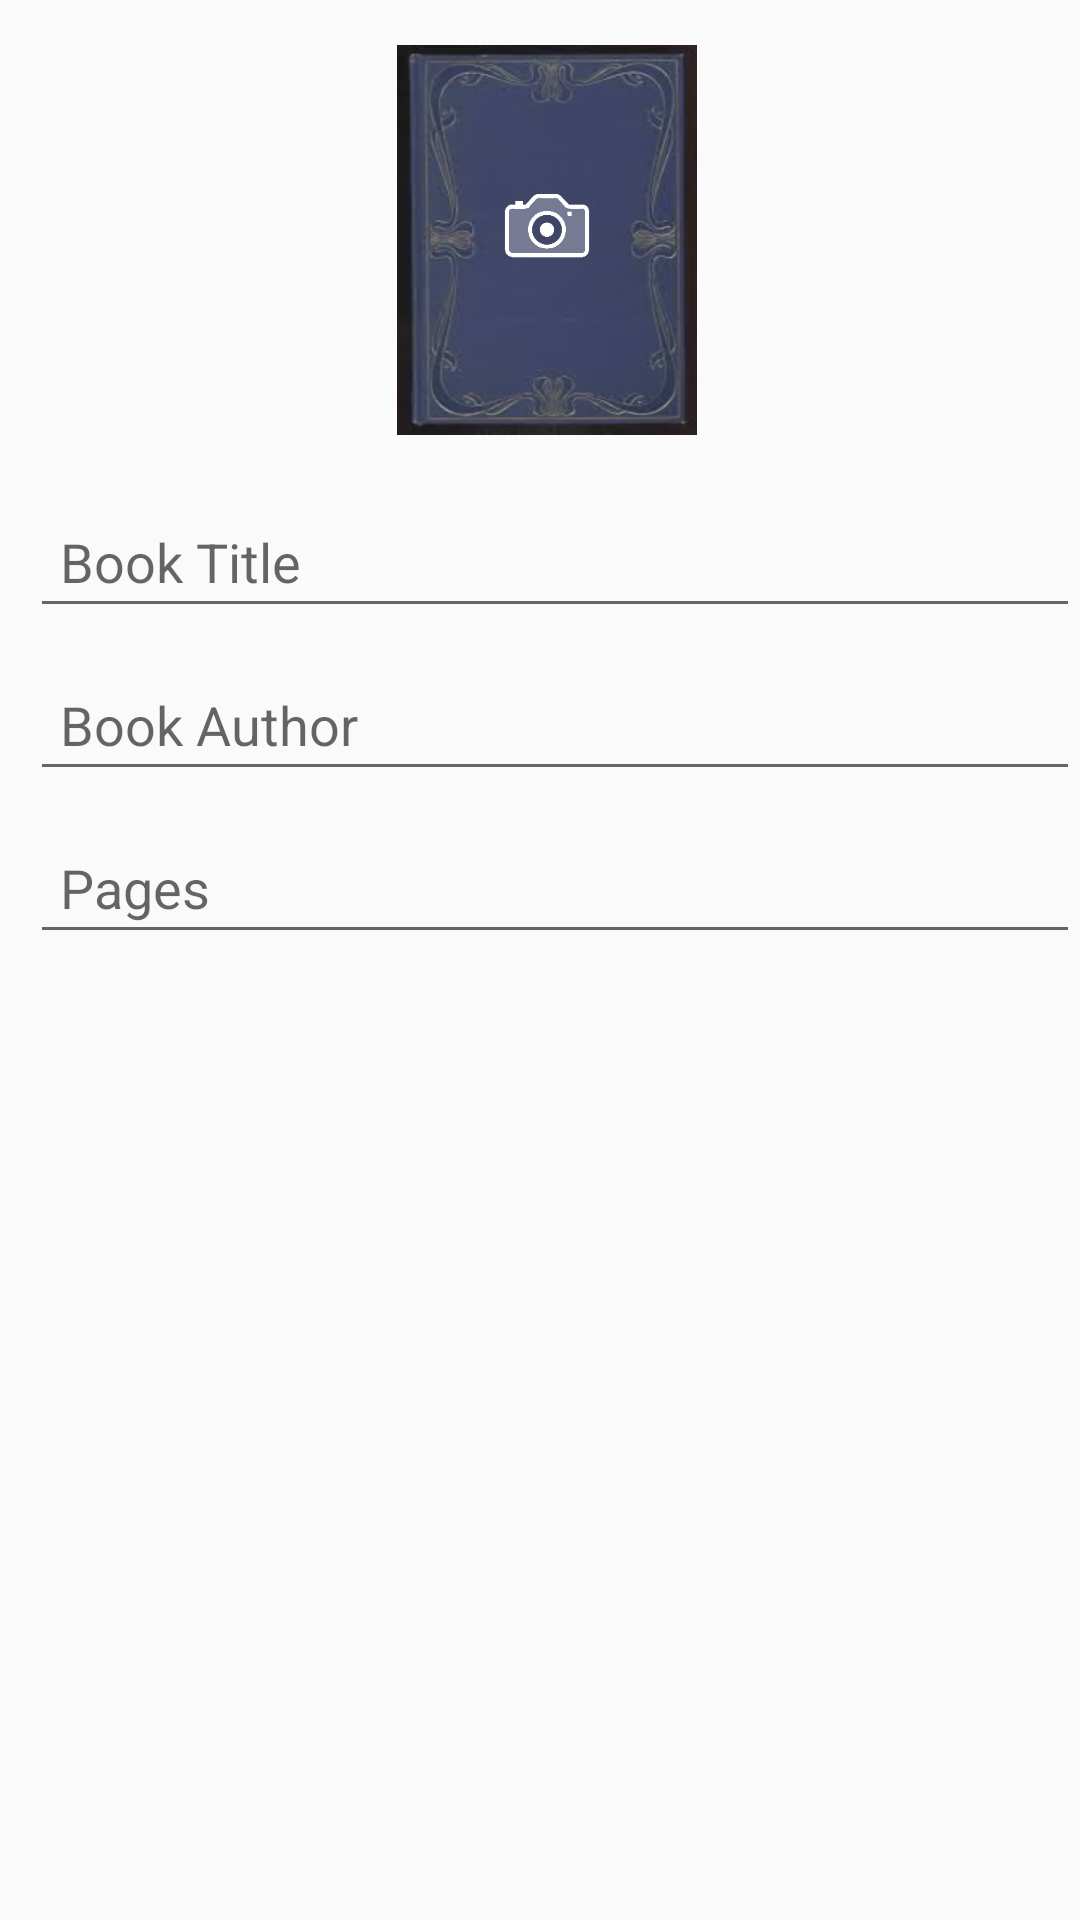

Icons on this 1080 x 1920 Android screen, each with the point to tap as (x=x, y=y):
camera: (x=547, y=226)
